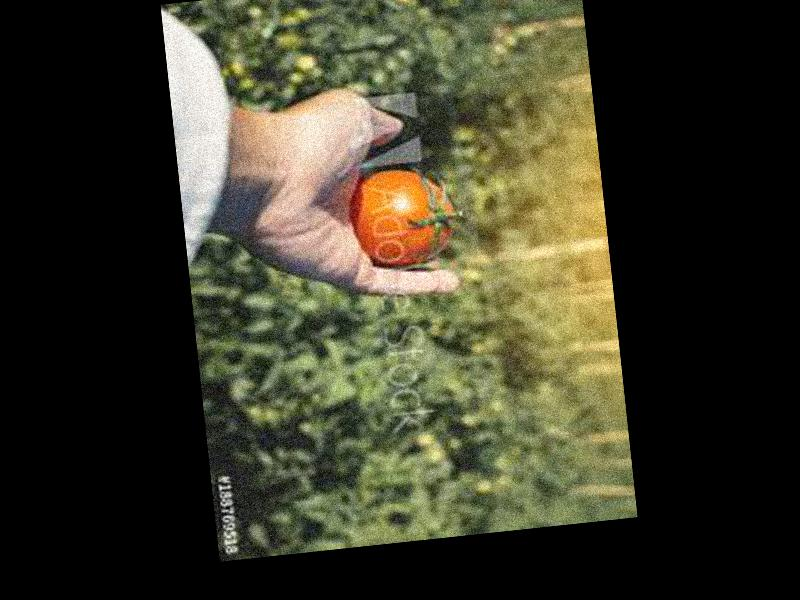Tomato: (351, 167, 457, 272)
